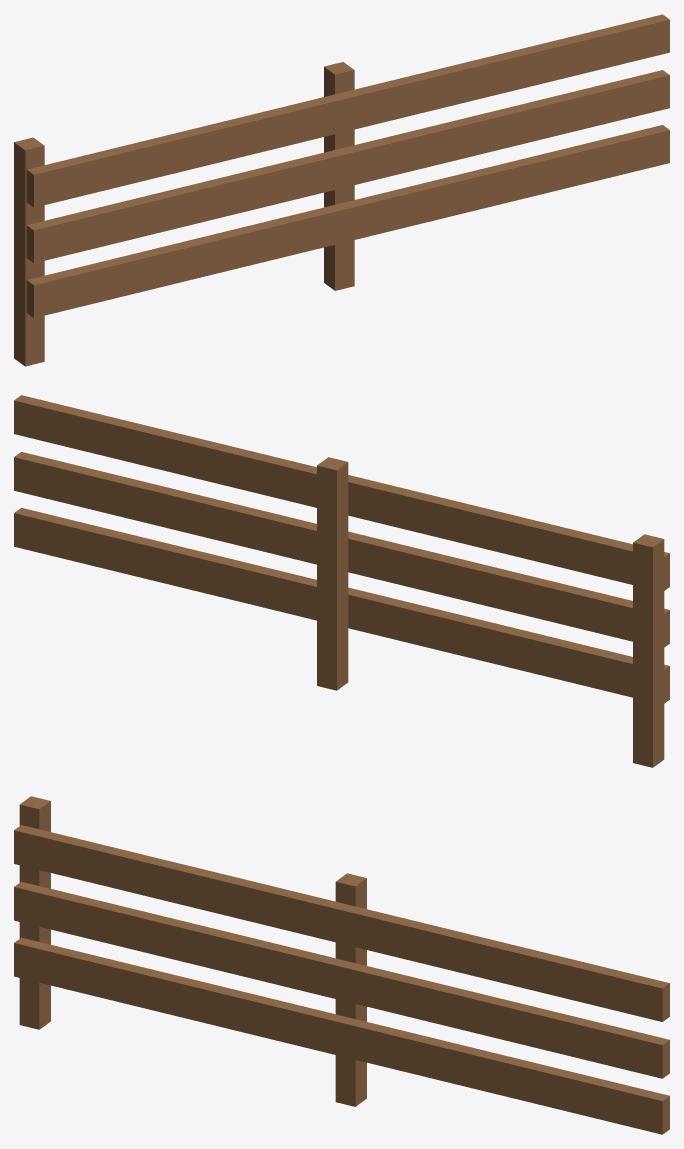
The model's file is Fence_04.fbx.
3 views of the same model, one above another, from view 1: azimuth 30°, elevation 25°; view 2: azimuth 150°, elevation 25°; view 3: azimuth 330°, elevation 25° (orthographic).
Parts seen in each view (by area): view 1: Fence_04; view 2: Fence_04; view 3: Fence_04.
Boxes of the visible parts, <box> form: Fence_04: <box>14,14,669,366</box>; Fence_04: <box>14,395,669,767</box>; Fence_04: <box>14,796,669,1134</box>.
Size of the model in its own units: 6.17 by 2 by 0.3079.
